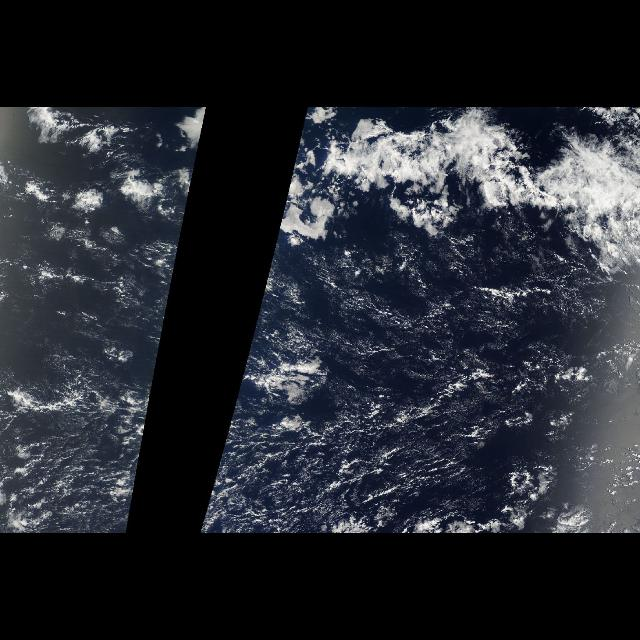Gravel: (198, 337, 438, 533), (7, 337, 164, 529)
